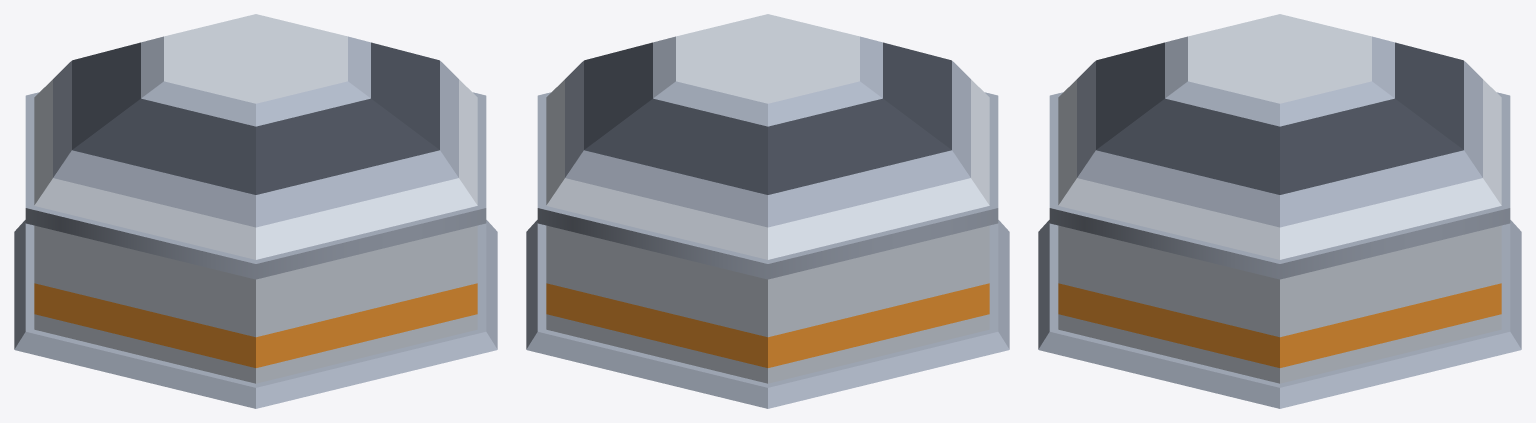
Rendered from hangar_roundA.obj.
3 views of the same model, side by side, from view 1: azimuth 30°, elevation 25°; view 2: azimuth 150°, elevation 25°; view 3: azimuth 270°, elevation 25° (orthographic).
Parts seen in each view (by area): view 1: hangar_roundA; view 2: hangar_roundA; view 3: hangar_roundA.
Part boxes in pixels (bbox=[...]): hangar_roundA: bbox=[14, 14, 497, 408]; hangar_roundA: bbox=[526, 14, 1009, 408]; hangar_roundA: bbox=[1038, 14, 1521, 408].
Bounding box in the file's own units: 3.27 × 1.5 × 2.83.
